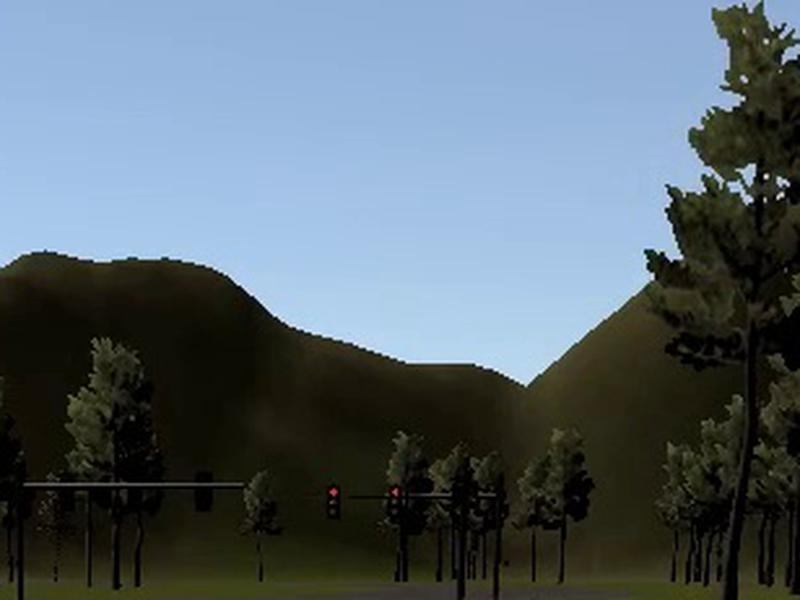Red: (388, 485, 404, 520), (325, 486, 340, 520)
